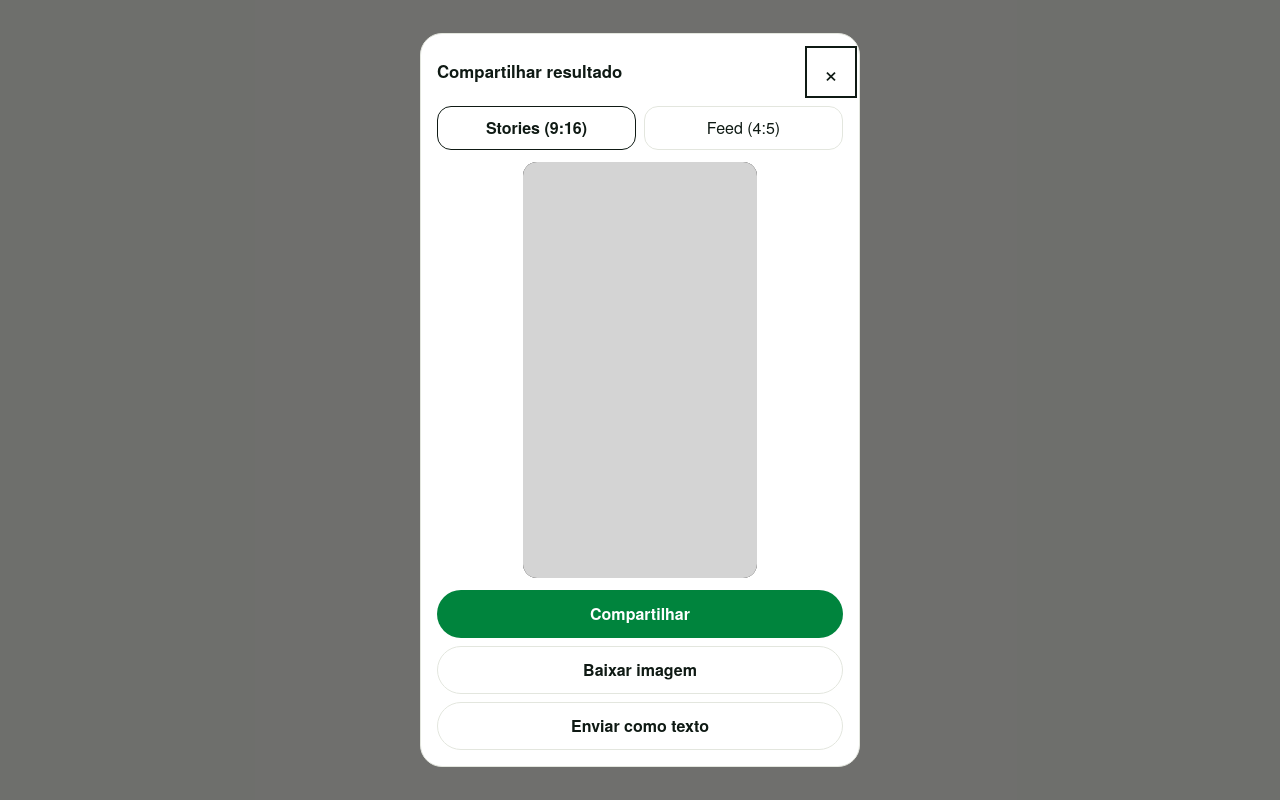
Test: ShareDialog › points to the download when the share sheet fails
What coordinates should you click on to do the following:
click the button "Compartilhar"
I would click on:
 (640, 614)
Its box is [437,590,843,638].
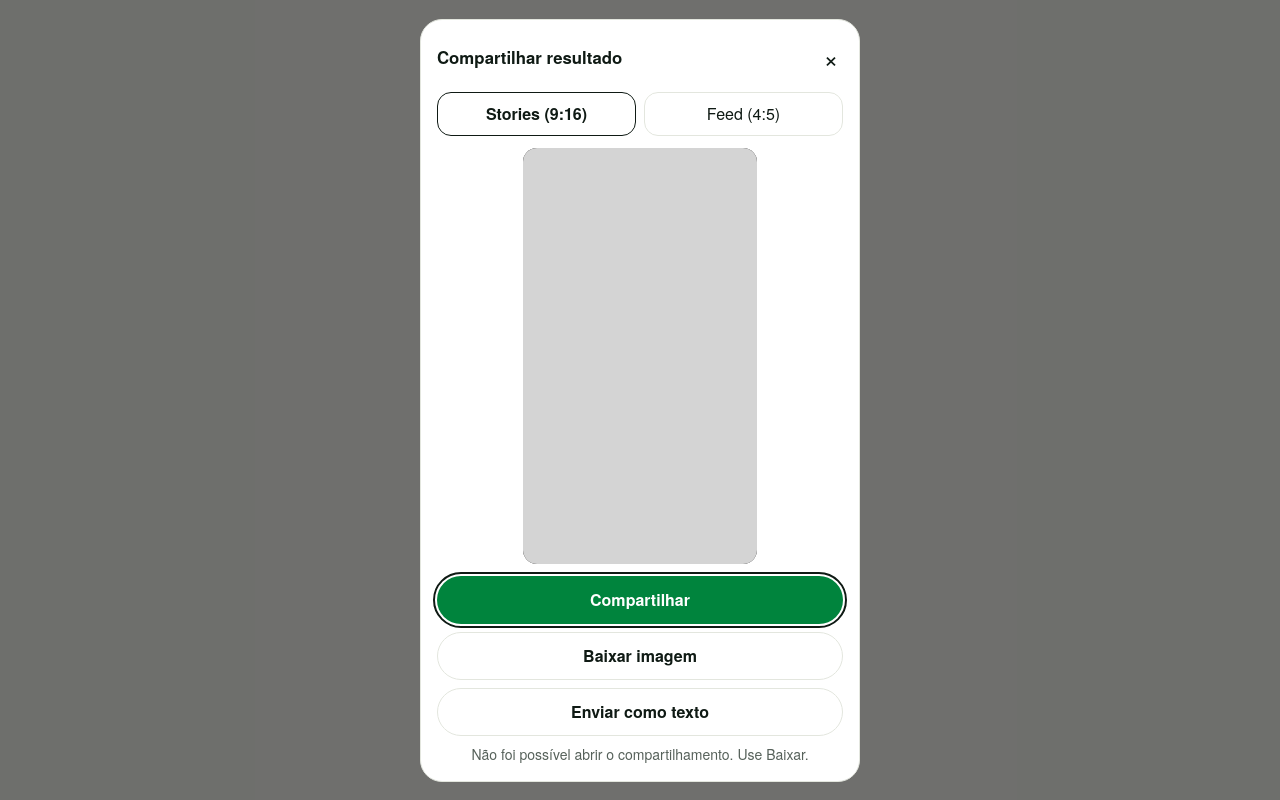
Check: the message reads "Não foi possível abrir o compartilhamento. Use Baixar.", box [471,744,808,764]
